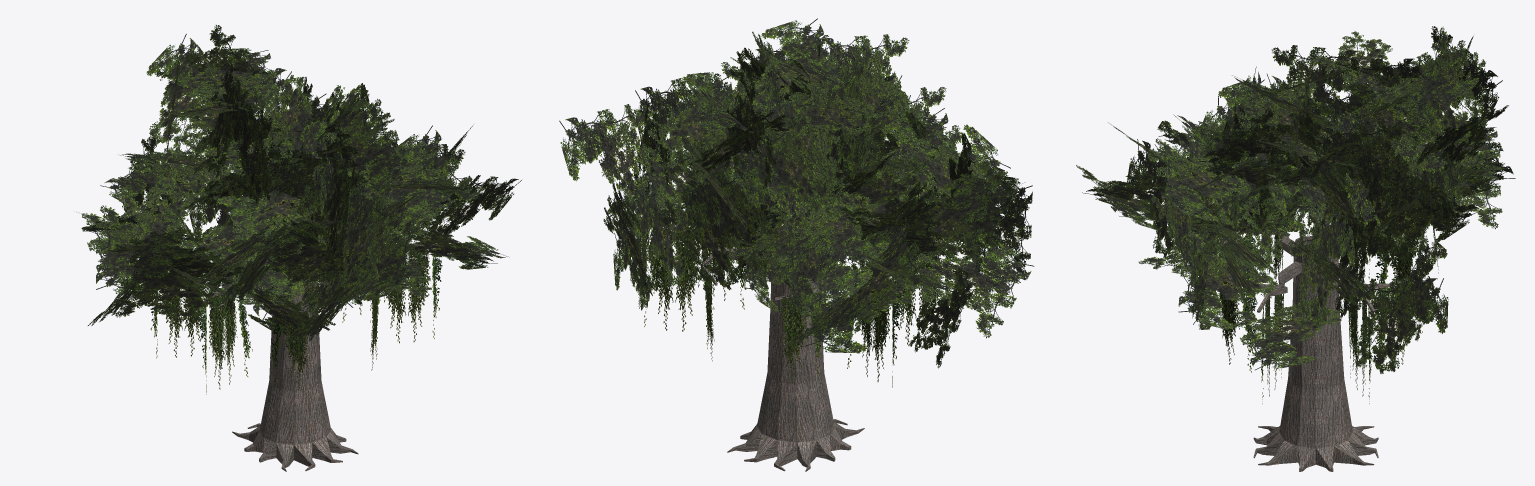
Rendered from pohon beringin.fbx.
3 views of the same model, side by side, from view 1: azimuth 30°, elevation 25°; view 2: azimuth 150°, elevation 25°; view 3: azimuth 270°, elevation 25° (orthographic). The views are drawn at different scales.
Parts seen in each view (by area): view 1: Plane.001, Cylinder, Plane; view 2: Plane.001, Cylinder, Plane; view 3: Plane.001, Cylinder, Plane.
Boxes of the visible parts, <box> form: Plane.001: <box>81,25,521,343</box>; Cylinder: <box>197,242,443,471</box>; Plane: <box>149,243,442,394</box>; Plane.001: <box>559,18,1034,368</box>; Cylinder: <box>640,224,959,471</box>; Plane: <box>635,221,955,387</box>; Plane.001: <box>1076,26,1515,373</box>; Cylinder: <box>1218,228,1415,471</box>; Plane: <box>1218,232,1414,403</box>.
Bounding box in the file's own units: 1960 × 1759 × 1711.
